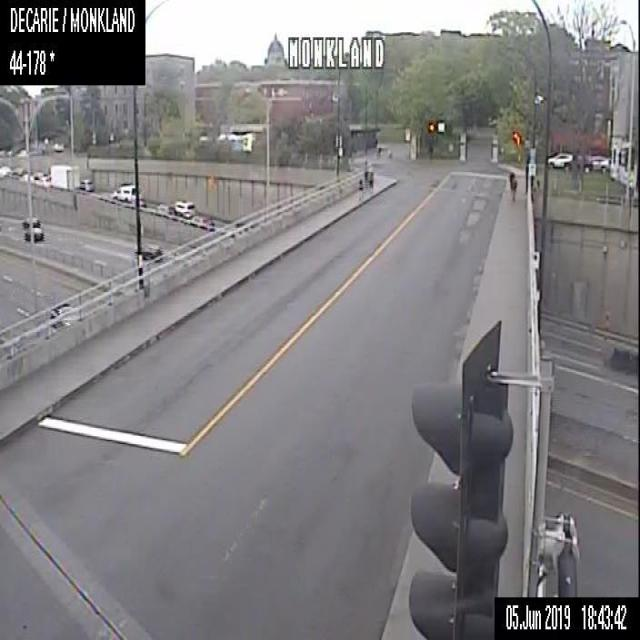pedestrian: (508, 171, 516, 200), (366, 169, 374, 191), (357, 176, 363, 197)
vehicle: (48, 300, 80, 328), (49, 164, 80, 190), (545, 150, 573, 170), (580, 153, 611, 171), (111, 181, 136, 203), (134, 241, 160, 260), (172, 198, 195, 218), (21, 214, 40, 228), (23, 227, 43, 240), (12, 164, 28, 177), (132, 194, 146, 208), (78, 177, 93, 190), (72, 163, 73, 164)
